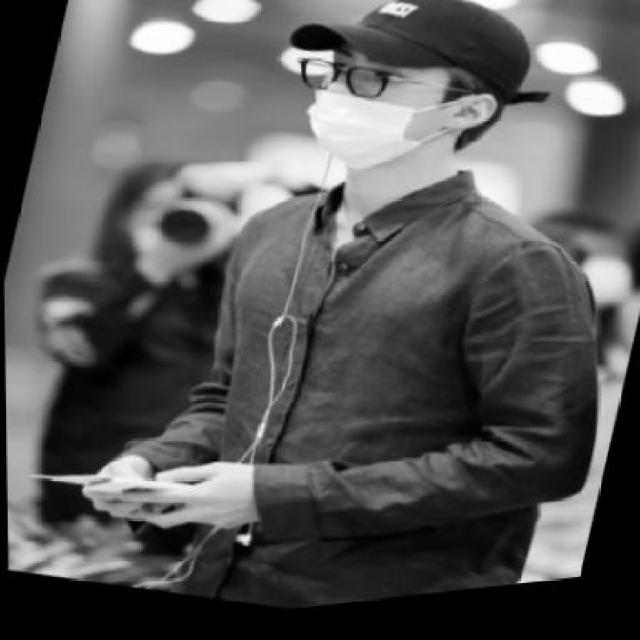hat: (277, 0, 565, 143)
